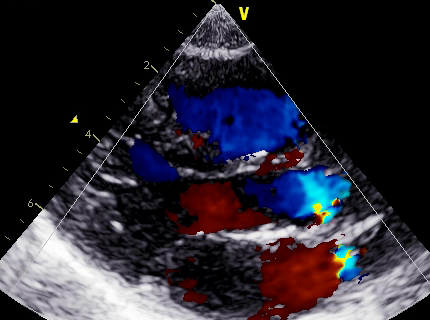AR: (184, 177, 284, 235)
